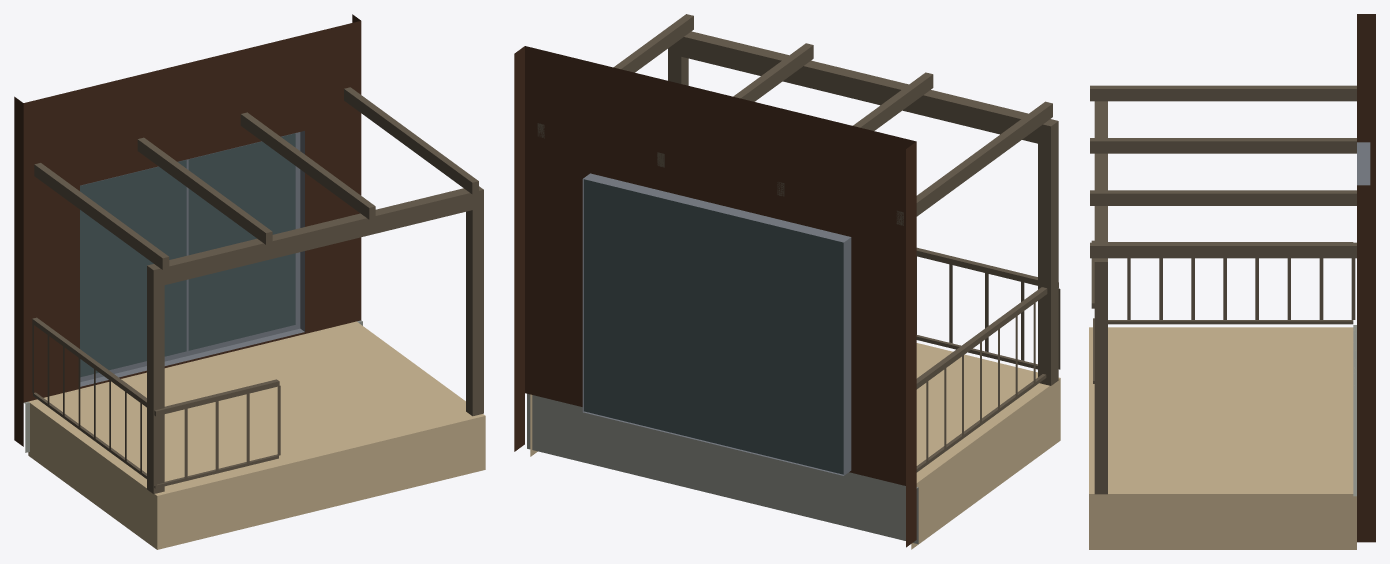
The model's file is base-stair3.fbx.
3 renders of one model, left to right at view 1: azimuth 30°, elevation 25°; view 2: azimuth 150°, elevation 25°; view 3: azimuth 270°, elevation 25°, orthographic. The views are drawn at different scales.
Visible parts, largest first — view 1: a2000/0/base-stair; view 2: a2000/0/base-stair; view 3: a2000/0/base-stair.
Part boxes in pixels (box(x1,y1,x2,y2)): a2000/0/base-stair: box(14, 14, 485, 549); a2000/0/base-stair: box(514, 14, 1060, 549); a2000/0/base-stair: box(1089, 14, 1375, 549).
Size of the model in its own units: 3.6 by 3.6 by 2.55.
